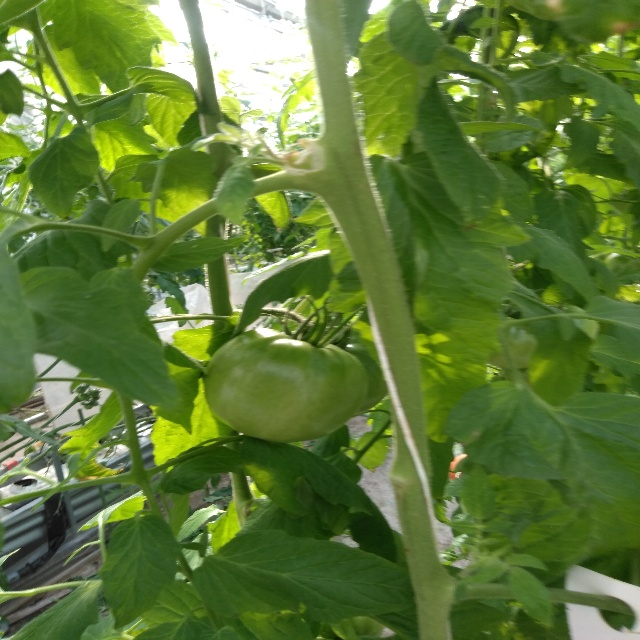b_green: (205, 327, 367, 443), (338, 342, 390, 415)
